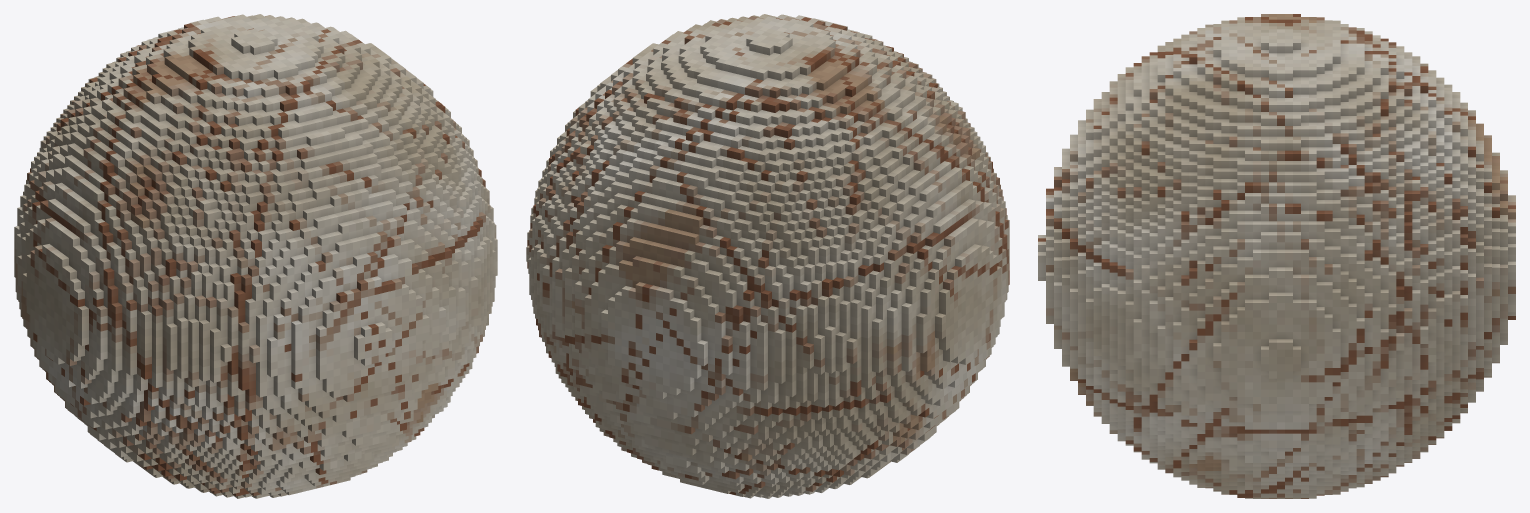
File: europa_lod0.glb
3 views of the same model, side by side, from view 1: azimuth 30°, elevation 25°; view 2: azimuth 150°, elevation 25°; view 3: azimuth 270°, elevation 25° (orthographic).
Visible parts, largest first — view 1: europa_lod0; view 2: europa_lod0; view 3: europa_lod0.
Boxes of the visible parts, left/top/right/bottom form: europa_lod0: left=14, top=14, right=497, bottom=498; europa_lod0: left=526, top=14, right=1009, bottom=498; europa_lod0: left=1038, top=14, right=1515, bottom=498.
Bounding box in the file's own units: 2 × 2 × 2.
